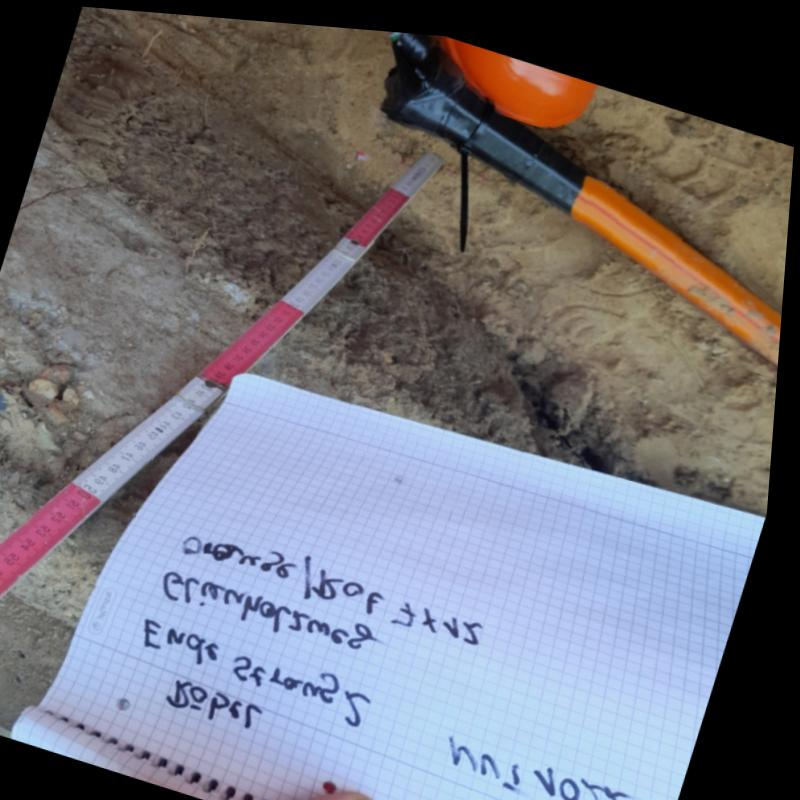Kugelmarker: (445, 30, 598, 114)
Orang-Speednetrohrchen: (582, 170, 785, 356)
